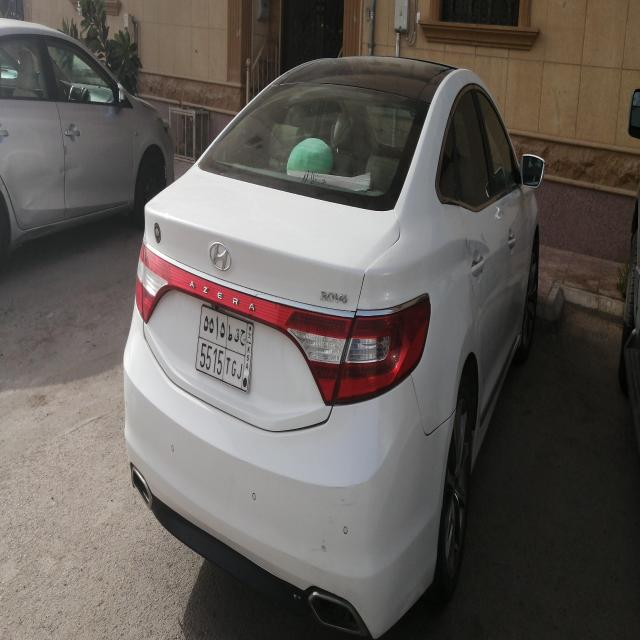license_plate: (195, 304, 252, 392)
